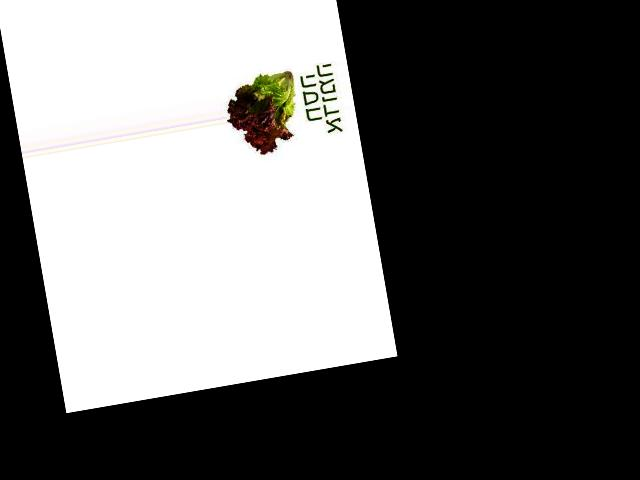lettuce: (223, 36, 356, 150)
